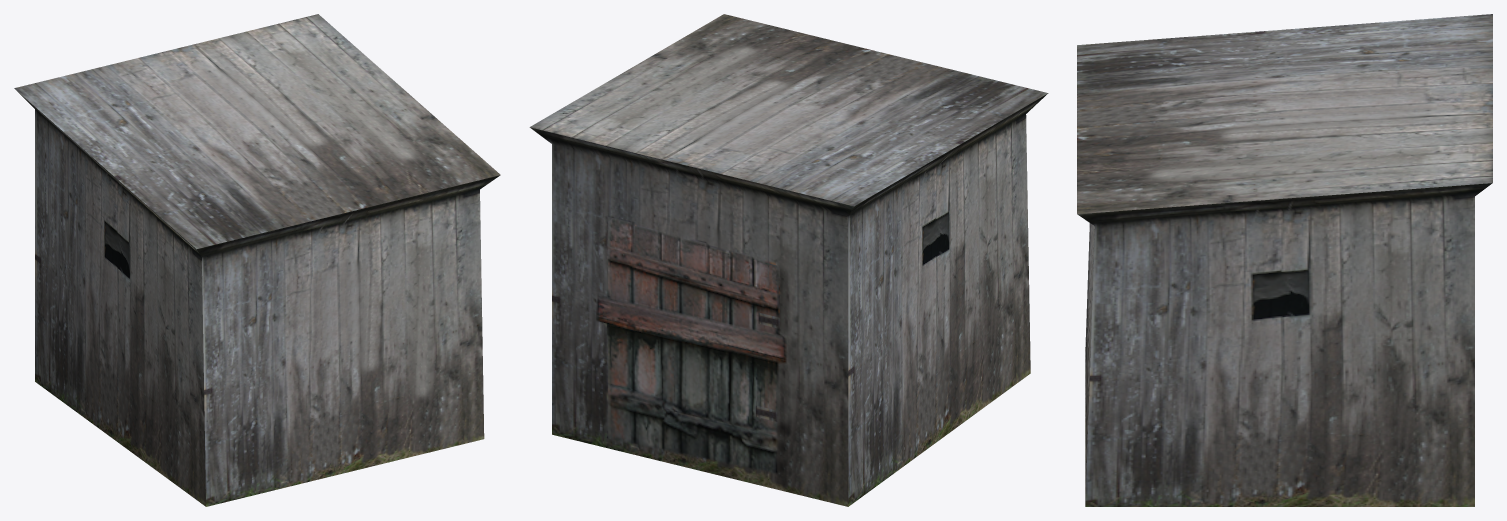
File: shed.fbx
3 views of the same model, side by side, from view 1: azimuth 30°, elevation 25°; view 2: azimuth 150°, elevation 25°; view 3: azimuth 270°, elevation 25° (orthographic). The views are drawn at different scales.
Parts seen in each view (by area): view 1: Shed; view 2: Shed; view 3: Shed.
Boxes of the visible parts, x1=… form: Shed: x1=14, y1=14, x2=500, y2=506; Shed: x1=529, y1=14, x2=1048, y2=506; Shed: x1=1077, y1=14, x2=1492, y2=506.
Bounding box in the file's own units: 1204 × 1100 × 1251.
Materials: 1 (1 with a texture image).
